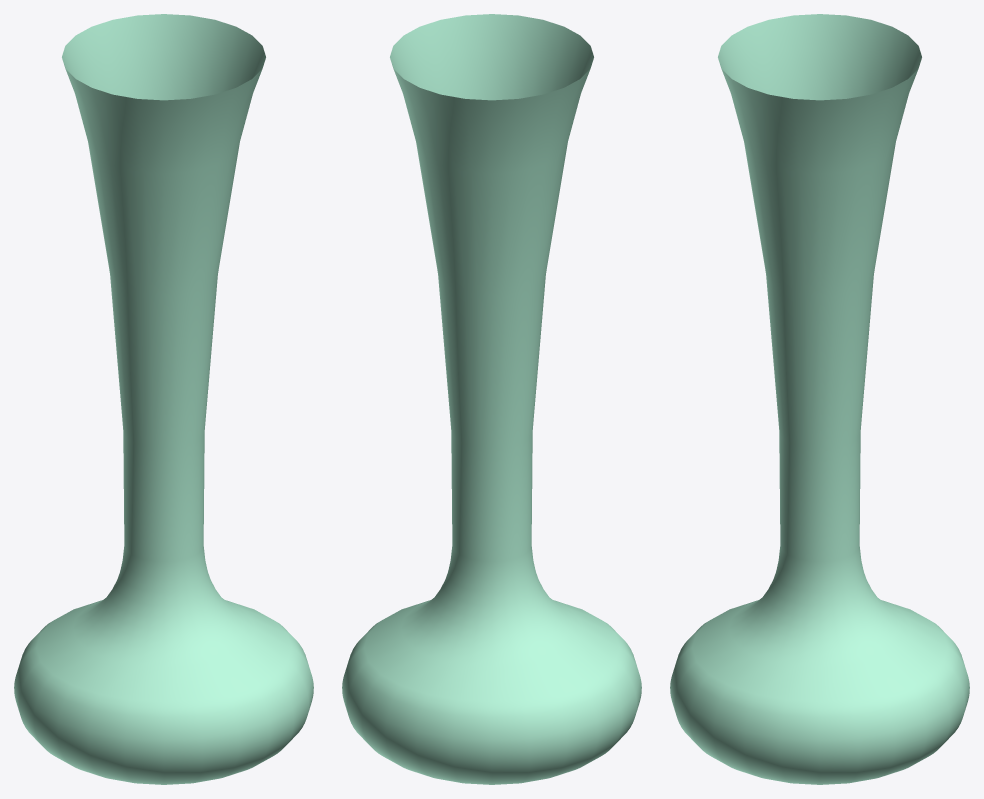
File: vase number 2.fbx
3 renders of one model, left to right at view 1: azimuth 30°, elevation 25°; view 2: azimuth 150°, elevation 25°; view 3: azimuth 270°, elevation 25°, orthographic.
Parts seen in each view (by area): view 1: Lathe; view 2: Lathe; view 3: Lathe.
Boxes of the visible parts, x1,y1,x2,y2 form: Lathe: (14, 14, 313, 784); Lathe: (342, 14, 641, 784); Lathe: (670, 14, 969, 784).
Bounding box in the file's own units: 163 × 418 × 163.
